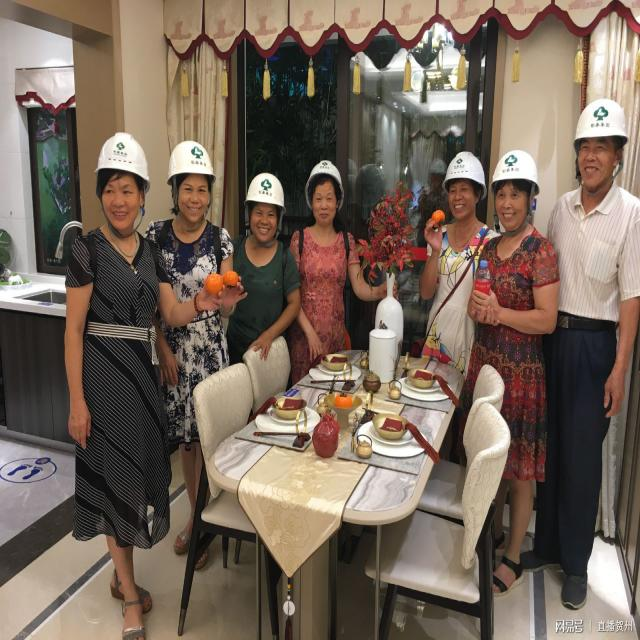helmet: (91, 127, 153, 230), (570, 92, 628, 195), (162, 135, 220, 229), (489, 144, 541, 232), (241, 168, 286, 246), (302, 153, 348, 228), (441, 144, 487, 217)
